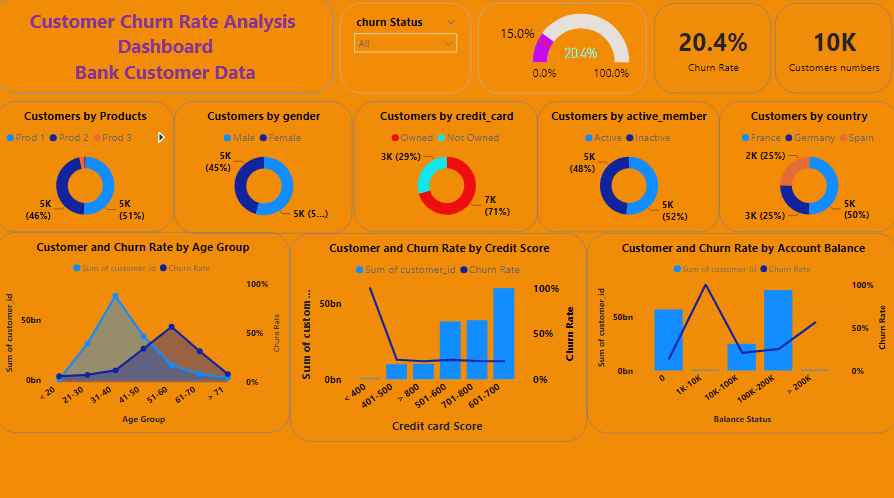

The dashboard page shown, as its layout file describes it:
{"tool":"powerbi","page":{"name":"Customer Churn rate","canvas":[1280,720],"ordinal":0},"visuals":[{"type":"card","fields":{"Values":["Bank Customer Churn Prediction.Customers numbers"]},"box":[1105,8.8,166.2,127.5],"z":0},{"type":"card","fields":{"Values":["Bank Customer Churn Prediction.Churn Rate"]},"box":[933.8,8.8,166.2,127.5],"z":1000},{"type":"donutChart","title":"Customers by gender","fields":{"Y":["Bank Customer Churn Prediction.Customers numbers"],"Category":["Bank Customer Churn Prediction.gender"]},"box":[253.8,147.5,252.5,187.5],"z":2000},{"type":"donutChart","title":"Customers  by credit_card","fields":{"Y":["Bank Customer Churn Prediction.Customers numbers"],"Category":["Bank Customer Churn Prediction.credit_card"]},"box":[508.8,147.5,261.2,186.2],"z":3000},{"type":"donutChart","title":"Customers  by active_member","fields":{"Y":["Bank Customer Churn Prediction.Customers numbers"],"Category":["Bank Customer Churn Prediction.active_member"]},"box":[767.5,147.5,258.8,186.2],"z":4000},{"type":"donutChart","title":"Customers  by country","fields":{"Y":["Bank Customer Churn Prediction.Customers numbers"],"Category":["Bank Customer Churn Prediction.country"]},"box":[1026.2,147.5,253.8,186.2],"z":5000},{"type":"donutChart","title":"Customers by Products","fields":{"Y":["Bank Customer Churn Prediction.Customers numbers"],"Category":["Bank Customer Churn Prediction.Products"]},"box":[0,147.5,253.8,186.2],"z":6000},{"type":"areaChart","title":"Customer and Churn Rate by Age Group","fields":{"Category":["Age Groups id.Age Group"],"Y":["Sum(Bank Customer Churn Prediction.customer_id)"],"Y2":["Bank Customer Churn Prediction.Churn Rate"]},"box":[0,333.8,417.5,285],"z":6001},{"type":"lineClusteredColumnComboChart","title":"Customer and Churn Rate by Credit Score","fields":{"Y":["Sum(Bank Customer Churn Prediction.customer_id)"],"Y2":["Bank Customer Churn Prediction.Churn Rate"],"Category":["Credit Card Status ID.Credit card Score"]},"box":[417.5,335,421.2,296.2],"z":6002},{"type":"lineClusteredColumnComboChart","title":"Customer and Churn Rate by Account Balance","fields":{"Y":["Sum(Bank Customer Churn Prediction.customer_id)"],"Y2":["Bank Customer Churn Prediction.Churn Rate"],"Category":["Account Balance ID.Balance Status"]},"box":[838.8,335,441.2,283.8],"z":6003},{"type":"textbox","box":[0,0,480,136.2],"z":6004},{"type":"slicer","fields":{"Values":["Bank Customer Churn Prediction.churn"]},"box":[488.8,8.8,186.2,127.5],"z":6005},{"type":"gauge","fields":{"Y":["Bank Customer Churn Prediction.Churn Rate"],"MinValue":["Min(Bank Customer Churn Prediction.Min Churn Rate)"],"MaxValue":["Max(Bank Customer Churn Prediction.Max Churn Rate)"],"TargetValue":["Max(Bank Customer Churn Prediction.Target Churn Rate)"]},"box":[685,8.8,238.8,127.5],"z":6006}]}

Visuals, with their boxes in screenshot pixels (x1, y1, x2, y2), scaled from the page's 1280x720 canvas onto the 894x498 screenshot:
card - Bank Customer Churn Prediction.Customers numbers: <bbox>772, 6, 888, 94</bbox>
card - Bank Customer Churn Prediction.Churn Rate: <bbox>652, 6, 768, 94</bbox>
"Customers by gender" donutChart: <bbox>177, 102, 354, 232</bbox>
"Customers  by credit_card" donutChart: <bbox>355, 102, 538, 231</bbox>
"Customers  by active_member" donutChart: <bbox>536, 102, 717, 231</bbox>
"Customers  by country" donutChart: <bbox>717, 102, 893, 231</bbox>
"Customers by Products" donutChart: <bbox>0, 102, 177, 231</bbox>
"Customer and Churn Rate by Age Group" areaChart: <bbox>0, 231, 292, 428</bbox>
"Customer and Churn Rate by Credit Score" lineClusteredColumnComboChart: <bbox>292, 232, 586, 437</bbox>
"Customer and Churn Rate by Account Balance" lineClusteredColumnComboChart: <bbox>586, 232, 893, 428</bbox>
textbox: <bbox>0, 0, 335, 94</bbox>
slicer - Bank Customer Churn Prediction.churn: <bbox>341, 6, 471, 94</bbox>
gauge - Bank Customer Churn Prediction.Churn Rate x Min(Bank Customer Churn Prediction.Min Churn Rate): <bbox>478, 6, 645, 94</bbox>
